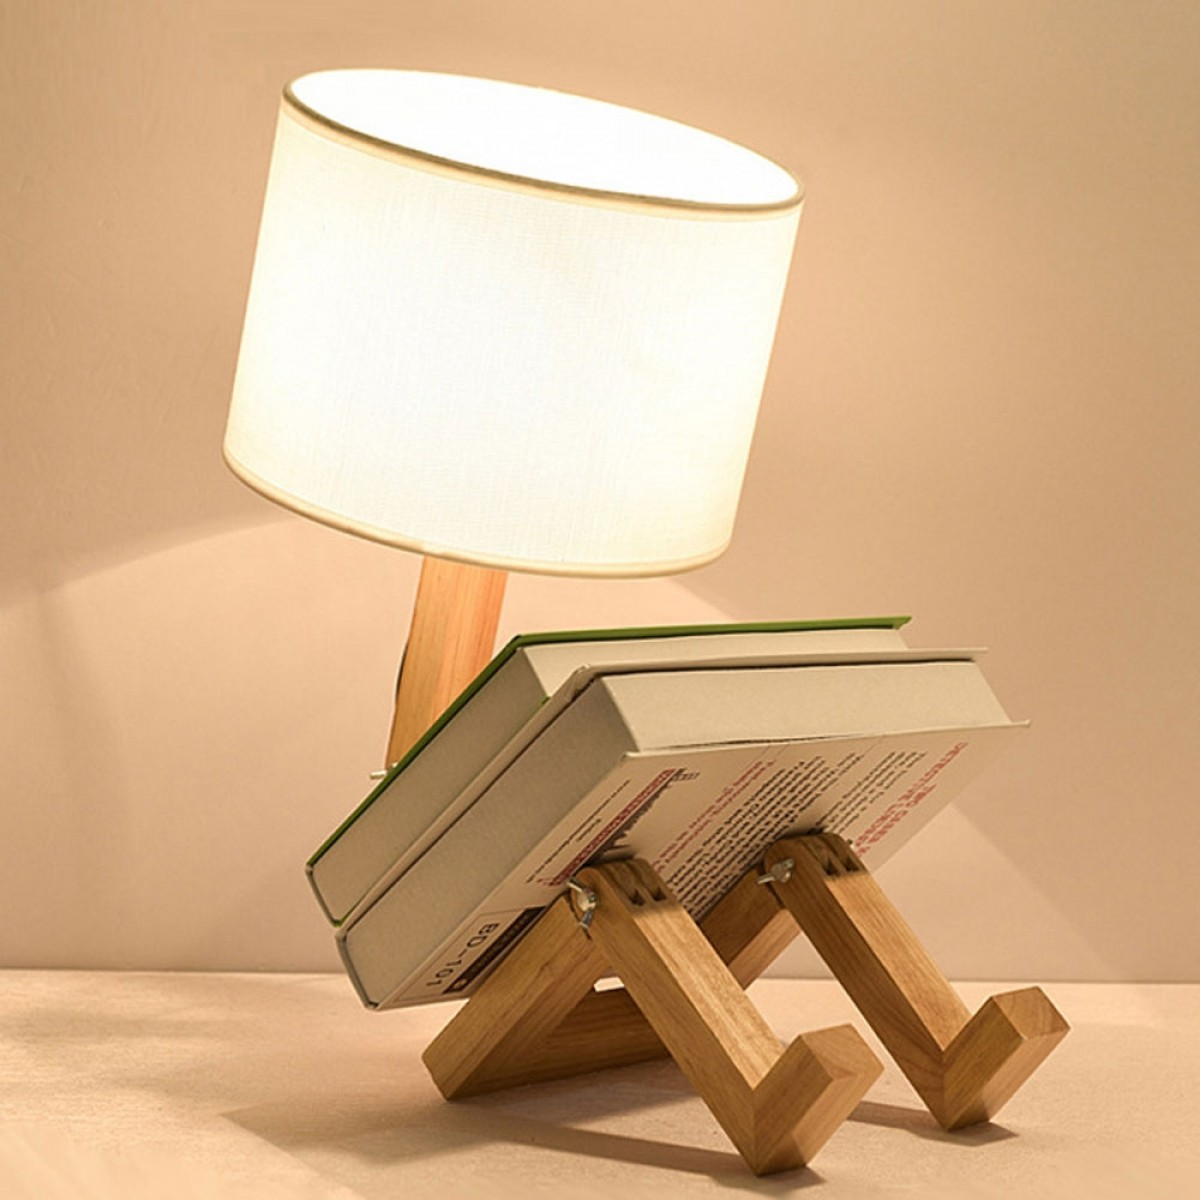buku: (321, 627, 993, 970)
lampu: (225, 52, 1070, 1200)
